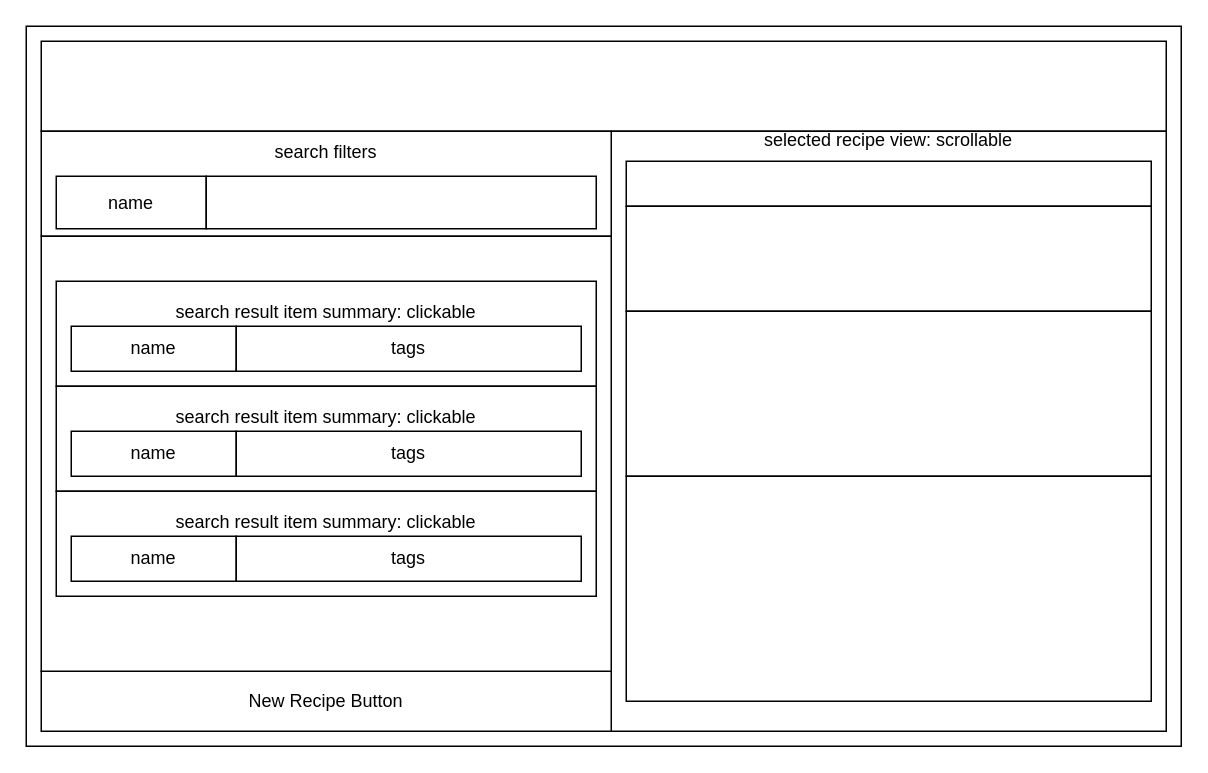
Image size: 1208x773. Some labels were removed from this diagram. The shapes that lost their labels are listed below. From the top down, each one's box as (x1, y1, x2, y2) in pixels, then its label:
(40, 40, 1166, 131): some sorta title-ish thing
(205, 175, 596, 229): tags: multiselect
(625, 160, 1151, 206): recipe name and contributor
(625, 205, 1151, 311): recipe description
(625, 310, 1151, 476): ingredients: multi-colum
(40, 235, 611, 671): Search results: scrollable
(625, 475, 1151, 701): directions
